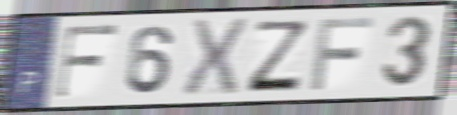3: (378, 14, 433, 90)
6: (127, 23, 175, 96)
F: (53, 22, 121, 100), (308, 15, 376, 93)
X: (179, 16, 250, 100)
Z: (244, 19, 311, 95)
